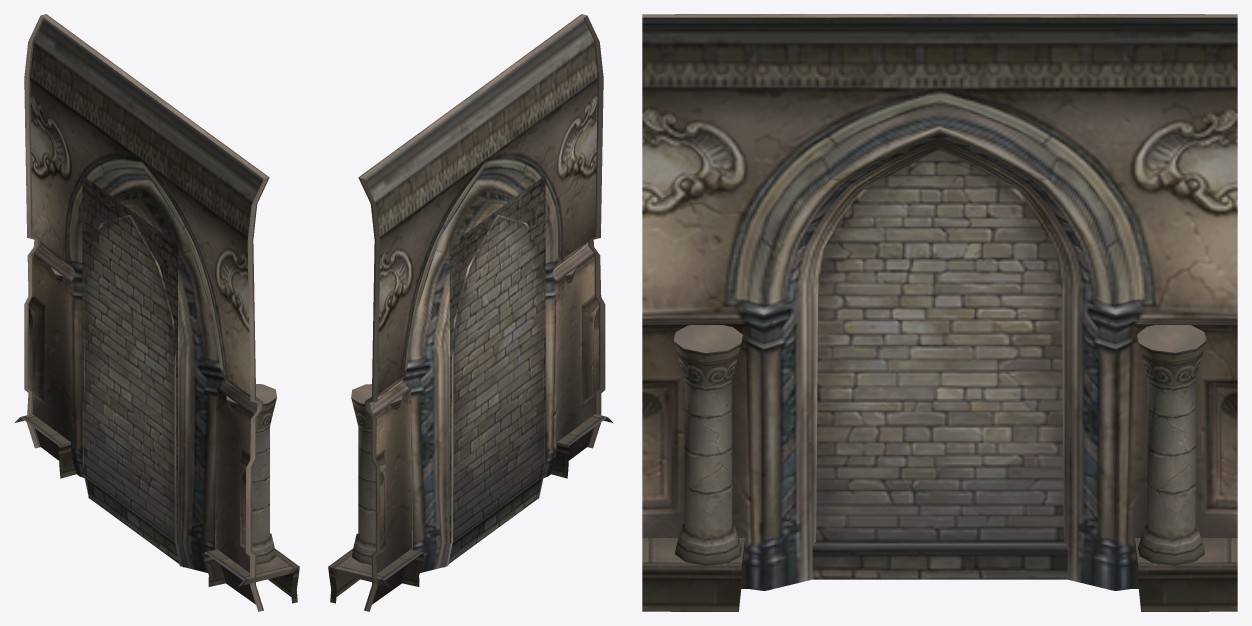
3 views of the same model, side by side, from view 1: azimuth 30°, elevation 25°; view 2: azimuth 150°, elevation 25°; view 3: azimuth 270°, elevation 25° (orthographic). The views are drawn at different scales.
Parts seen in each view (by area): view 1: DN_1_4_dt02c; view 2: DN_1_4_dt02c; view 3: DN_1_4_dt02c.
Boxes of the visible parts, x1,y1,x2,y2 form: DN_1_4_dt02c: (15,14,299,611); DN_1_4_dt02c: (328,14,612,611); DN_1_4_dt02c: (642,14,1237,611).
Bounding box in the file's own units: 322 × 2122 × 1989.
